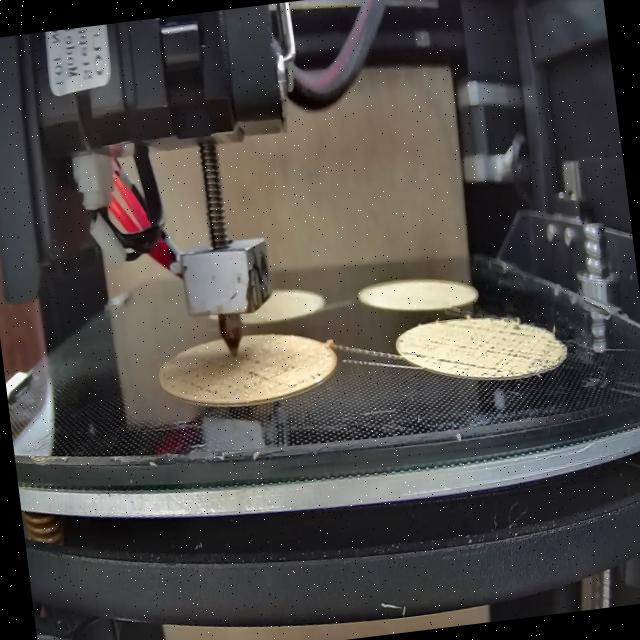under_extrusion: (429, 312, 552, 386), (185, 358, 324, 408), (401, 340, 426, 367)
